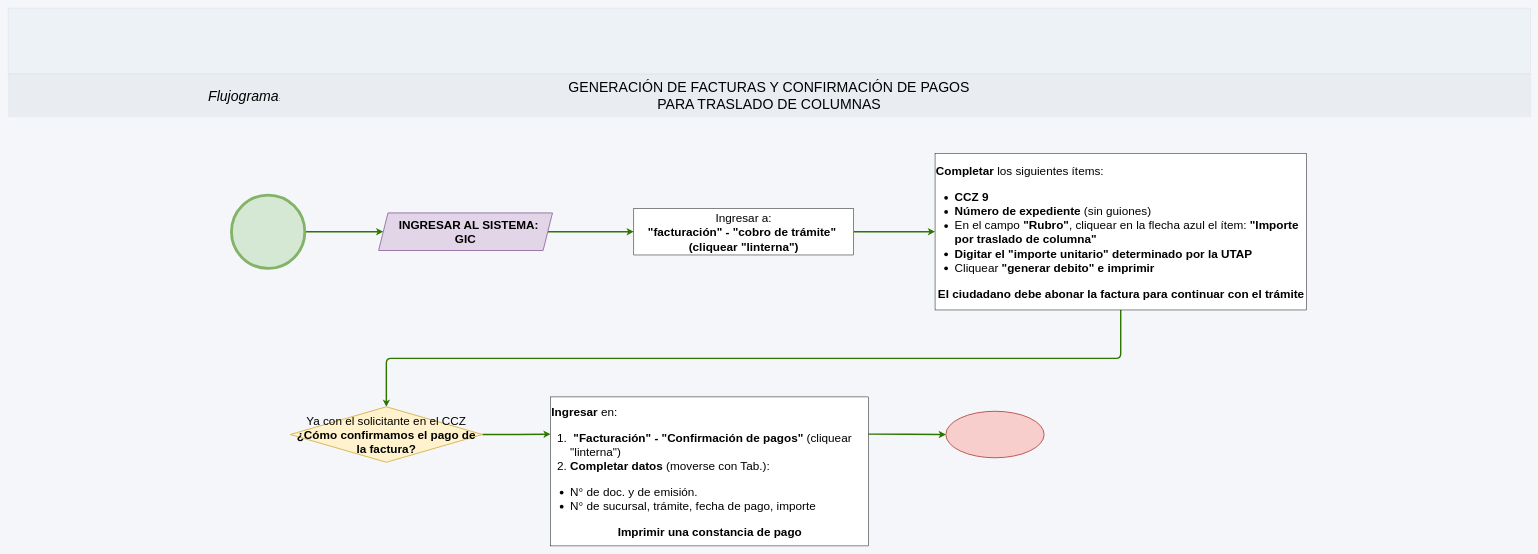
The diagram is 1538 pixels wide and 554 high, and some of its shapes have lost their labels. The centre of each missing label's shape, as x and y in pixels:
FIN: pixel 994 434
INICIO: pixel 268 231
